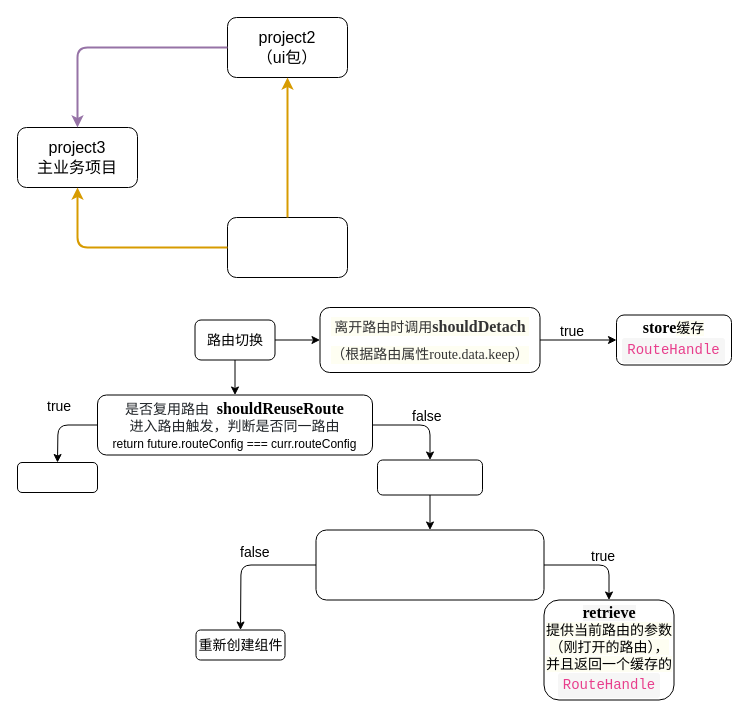
The diagram is 749 pixels wide and 718 high, and some of its shapes have lost their labels. The shapes that lost their labels are listed below. From the top down, each one's box as (x1, y1, x2, y2) in pixels, then its label:
(226, 216, 348, 278): project1 （tools包）
(16, 462, 98, 492): 路由不跳转
(376, 459, 482, 495): 路由发生变化，其余方法被调用
(315, 529, 544, 600): 路由刚刚被调用，加载到组件上时 shouldAttach ： 是否还原路由 (根据是否缓存了对应路由key)
